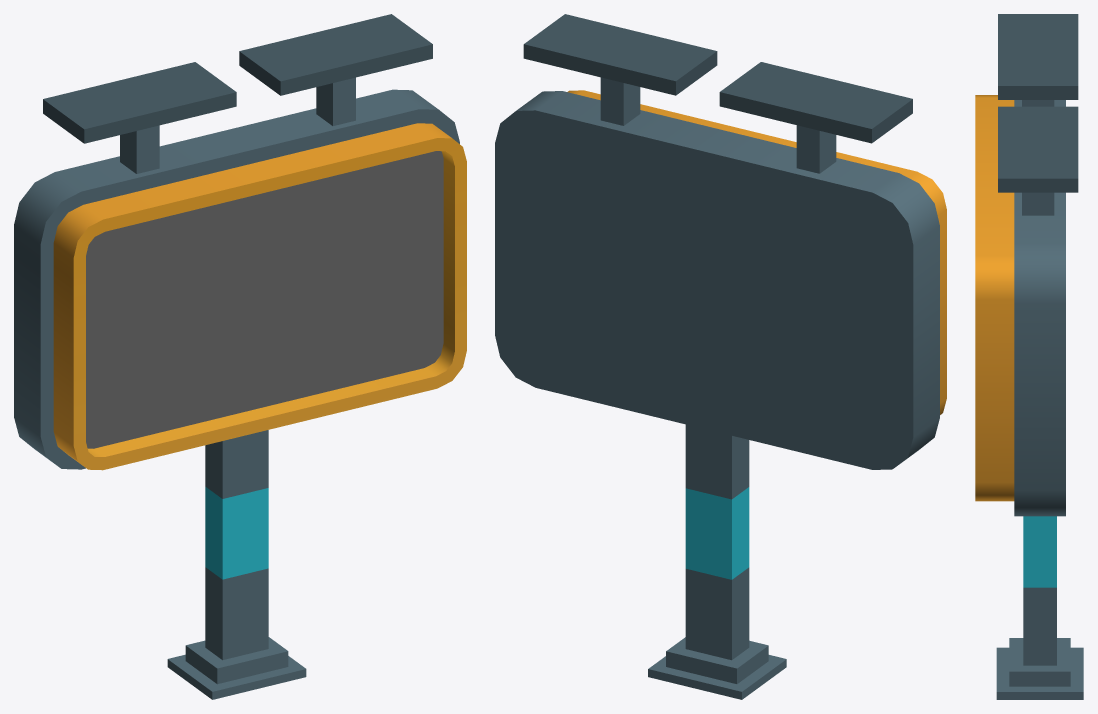
Rendered from M_Mine_sign.fbx.
3 views of the same model, side by side, from view 1: azimuth 30°, elevation 25°; view 2: azimuth 150°, elevation 25°; view 3: azimuth 270°, elevation 25° (orthographic). The views are drawn at different scales.
Parts seen in each view (by area): view 1: M_Mine_sign; view 2: M_Mine_sign; view 3: M_Mine_sign.
Boxes of the visible parts, left/top/right/bottom form: M_Mine_sign: left=14, top=14, right=466, bottom=699; M_Mine_sign: left=495, top=14, right=946, bottom=699; M_Mine_sign: left=975, top=14, right=1083, bottom=699.
Size of the model in its own units: 363 by 497 by 83.8.
1 material, 1 textured.
